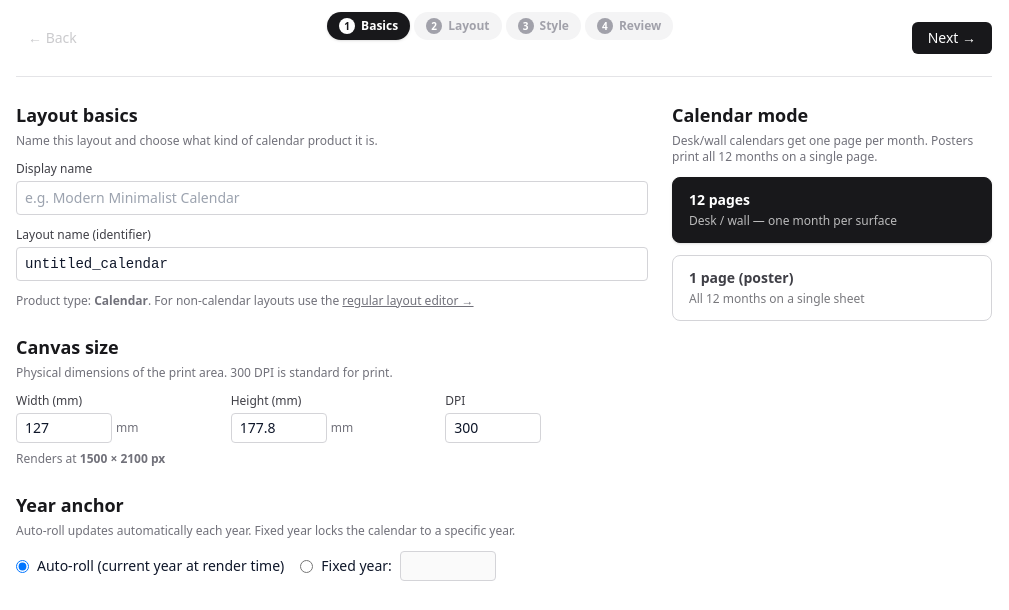
Test case: CalendarLayoutEditor — style controls › switches theme to Gen-Z and reveals palette picker
This screenshot has width=1009, height=610.
Click the button "3 Style" at (543, 26), box left=506, top=12, right=581, bottom=40
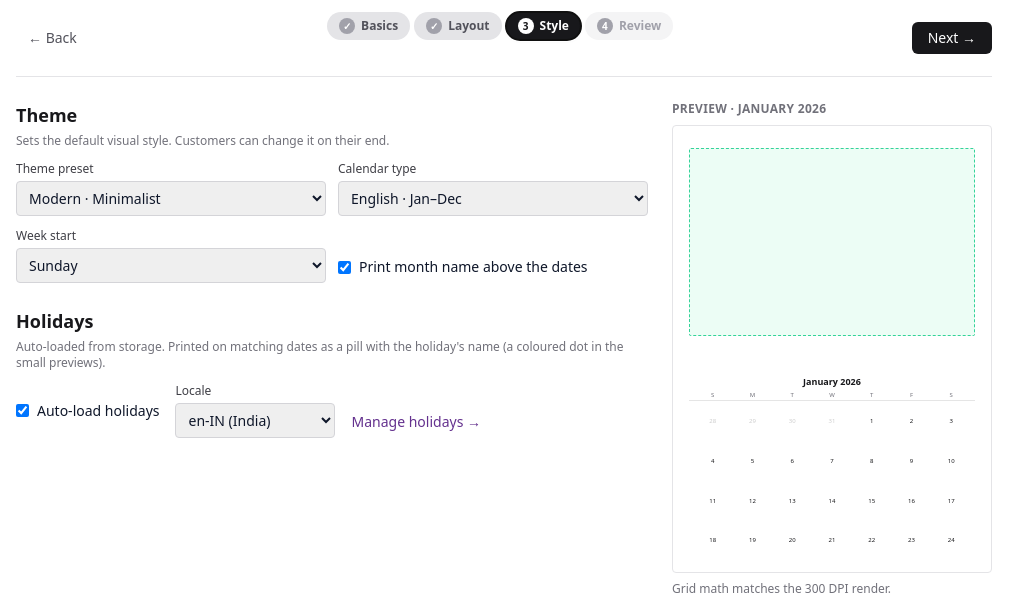
Select "Modern · Gen-Z" in the dropdown with test id "style-theme" at (171, 198), box left=16, top=181, right=326, bottom=216
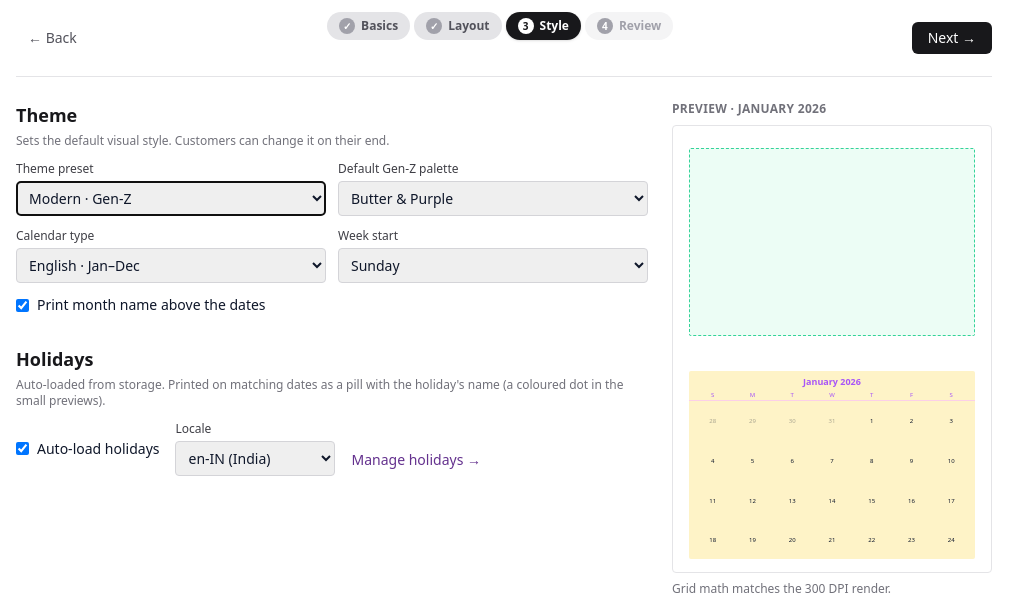
Now the dropdown with test id "style-genz-palette" is shown, box left=338, top=181, right=648, bottom=216
